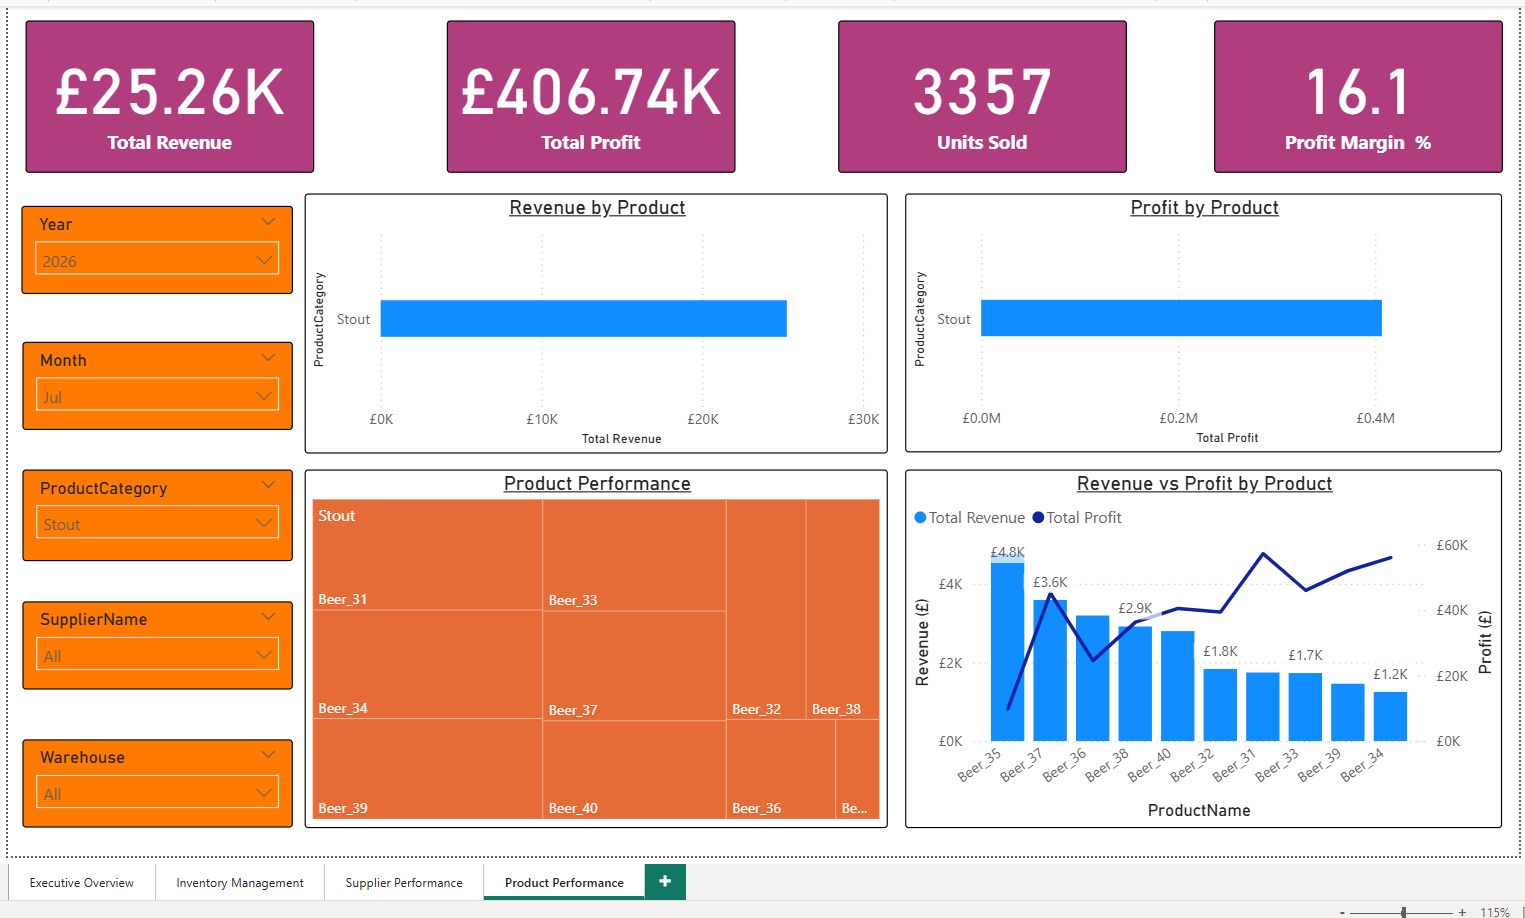

Layout of this report page (visuals, bound fields, positions):
{"tool":"powerbi","page":{"name":"Product Performance","canvas":[1280,720],"ordinal":3},"visuals":[{"type":"card","fields":{"Values":["Measure.Total Revenue"]},"box":[15.2,12.5,244.5,129],"z":0},{"type":"card","fields":{"Values":["Measure.Total Profit"]},"box":[371.7,12.5,244.5,129],"z":1000},{"type":"card","fields":{"Values":["Measure.Units Sold"]},"box":[703.1,12.5,244.5,129],"z":2000},{"type":"card","fields":{"Values":["Measure.Profit Margin  %"]},"box":[1021.9,12.5,244.5,129],"z":3000},{"type":"slicer","fields":{"Values":["DimDate.Year"]},"box":[11.6,169.3,230.2,75.2],"z":4000},{"type":"slicer","fields":{"Values":["DimDate.Month"]},"box":[12.5,284.8,229.3,75.2],"z":5000},{"type":"slicer","fields":{"Values":["Dimproduct.ProductCategory"]},"box":[12.5,393.2,229.3,77.9],"z":6000},{"type":"slicer","fields":{"Values":["DimSupplier.SupplierName"]},"box":[12.5,504.2,229.3,75.2],"z":7000},{"type":"slicer","fields":{"Values":["FactInventory.Warehouse"]},"box":[12.5,621.6,229.3,75.2],"z":8000},{"type":"clusteredBarChart","title":"Revenue by Product","fields":{"Y":["Measure.Total Revenue"],"Category":["Dimproduct.ProductCategory"]},"box":[251.7,158.5,494.4,220.3],"z":9000},{"type":"clusteredBarChart","title":"Profit by Product","fields":{"Category":["Dimproduct.ProductCategory"],"Y":["Measure.Total Profit"]},"box":[760.4,158.5,506,219.4],"z":10000},{"type":"treemap","title":"Product Performance","fields":{"Group":["Dimproduct.ProductCategory"],"Values":["Measure.Total Profit"],"Details":["Dimproduct.ProductName"]},"box":[251.7,393.2,494.4,303.6],"z":11000},{"type":"lineStackedColumnComboChart","title":"Revenue vs Profit by Product","fields":{"Category":["Dimproduct.ProductName"],"Y":["Measure.Total Revenue"],"Y2":["Measure.Total Profit"]},"box":[760,393,506,304],"z":12000}]}

Visuals, with their boxes in screenshot pixels (x1, y1, x2, y2):
card - Measure.Total Revenue: bbox=(26, 19, 313, 170)
card - Measure.Total Profit: bbox=(445, 19, 732, 170)
card - Measure.Units Sold: bbox=(834, 19, 1121, 170)
card - Measure.Profit Margin  %: bbox=(1209, 19, 1496, 170)
slicer - DimDate.Year: bbox=(22, 203, 292, 291)
slicer - DimDate.Month: bbox=(23, 339, 292, 427)
slicer - Dimproduct.ProductCategory: bbox=(23, 466, 292, 557)
slicer - DimSupplier.SupplierName: bbox=(23, 596, 292, 685)
slicer - FactInventory.Warehouse: bbox=(23, 734, 292, 823)
"Revenue by Product" clusteredBarChart: bbox=(304, 190, 885, 449)
"Profit by Product" clusteredBarChart: bbox=(901, 190, 1496, 448)
"Product Performance" treemap: bbox=(304, 466, 885, 823)
"Revenue vs Profit by Product" lineStackedColumnComboChart: bbox=(901, 466, 1495, 823)
